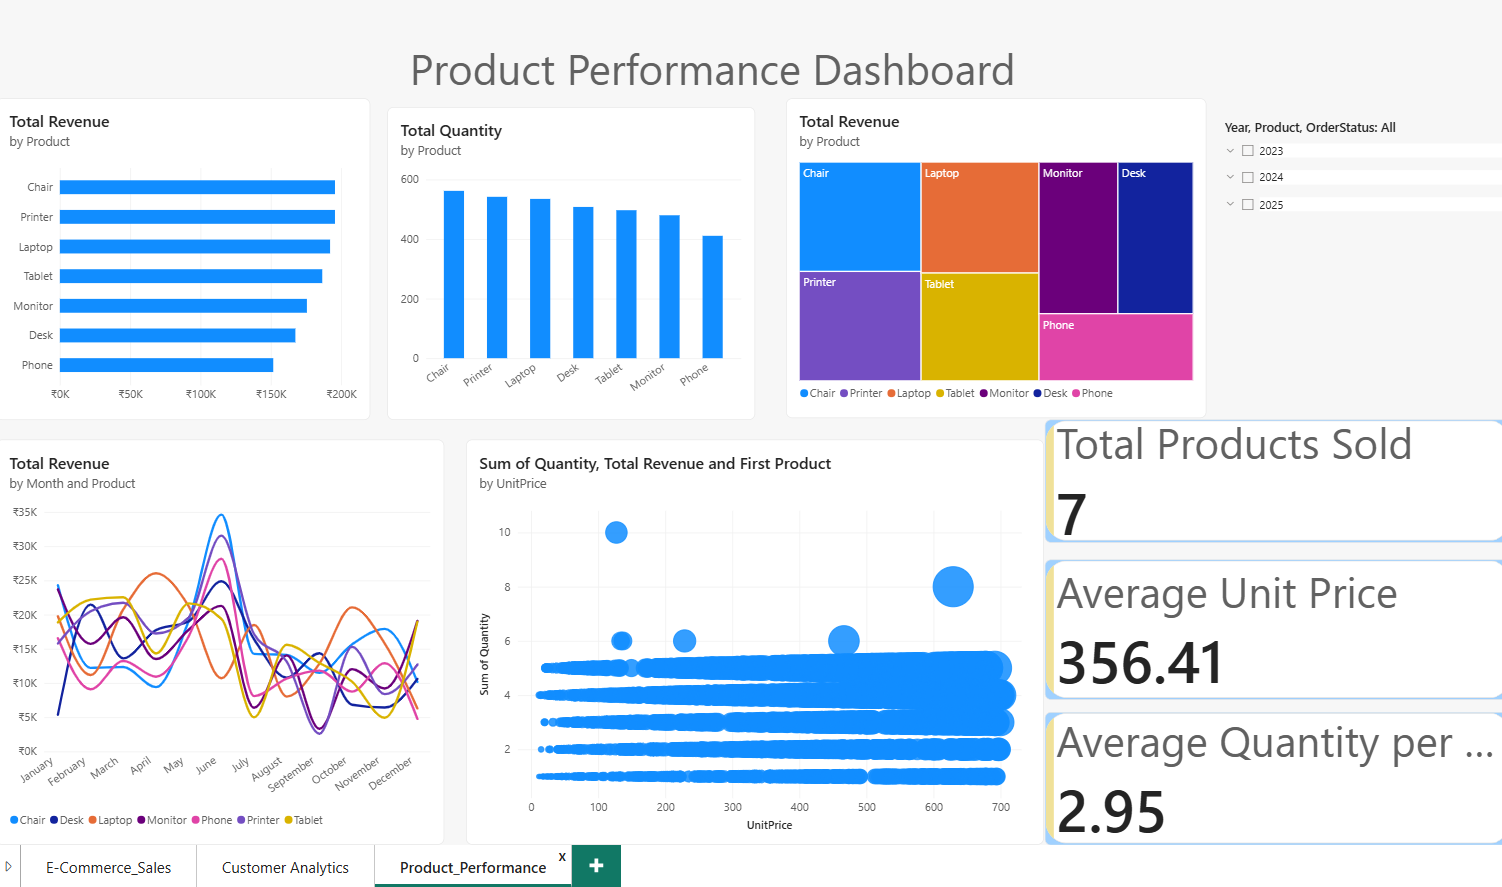

The page's visual inventory and layout, read from the dashboard file:
{"tool":"powerbi","page":{"name":"Product_Performance","canvas":[1920,1080],"ordinal":2},"visuals":[{"type":"clusteredBarChart","fields":{"Category":["Cleaned_dataset.Product"],"Y":["Cleaned_dataset.Total Revenue"]},"box":[0,134.2,473.9,406.9],"z":0},{"type":"textbox","box":[523.7,60.6,781.3,73.6],"z":1000},{"type":"clusteredColumnChart","fields":{"Category":["Cleaned_dataset.Product"],"Y":["Cleaned_dataset.Total Quantity"]},"box":[495.6,145,465.3,396],"z":2000},{"type":"treemap","fields":{"Group":["Cleaned_dataset.Product"],"Values":["Cleaned_dataset.Total Revenue"]},"box":[999.8,134.2,532.4,404.7],"z":2001},{"type":"scatterChart","fields":{"Size":["Cleaned_dataset.Total Revenue"],"X":["Cleaned_dataset.UnitPrice"],"Y":["Sum(Cleaned_dataset.Quantity)"]},"box":[595.1,567,731.5,512.9],"z":2002},{"type":"lineChart","fields":{"Category":["Cleaned_dataset.Date.Variation.Date Hierarchy.Month"],"Series":["Cleaned_dataset.Product"],"Y":["Cleaned_dataset.Total Revenue"]},"box":[0,567,567,512.9],"z":2003},{"type":"slicer","fields":{"Values":["Cleaned_dataset.Date.Variation.Date Hierarchy.Year","Cleaned_dataset.Product","Cleaned_dataset.OrderStatus"]},"box":[1547.4,160.1,372.2,259.7],"z":2004},{"type":"cardVisual","fields":{"Data":["Cleaned_dataset.Total Products Sold"]},"box":[1326.6,541,593,155.8],"z":2005},{"type":"cardVisual","fields":{"Data":["Cleaned_dataset.Average Unit Price"]},"box":[1326.6,718.5,593,177.5],"z":2006},{"type":"cardVisual","fields":{"Data":["Cleaned_dataset.Average Quantity per Order"]},"box":[1326.6,911.1,593,168.8],"z":2007}]}

Visuals, with their boxes on the page's 1920x1080 design canvas (x1, y1, x2, y2). These are canvas units, not pixel positions in the 1502x887 screenshot, which may show the page scaled, cropped or inside an application window:
clusteredBarChart - Cleaned_dataset.Product x Cleaned_dataset.Total Revenue: region(0, 134, 474, 541)
textbox: region(524, 61, 1305, 134)
clusteredColumnChart - Cleaned_dataset.Product x Cleaned_dataset.Total Quantity: region(496, 145, 961, 541)
treemap - Cleaned_dataset.Product x Cleaned_dataset.Total Revenue: region(1000, 134, 1532, 539)
scatterChart - Cleaned_dataset.Total Revenue x Cleaned_dataset.UnitPrice: region(595, 567, 1327, 1080)
lineChart - Cleaned_dataset.Date.Variation.Date Hierarchy.Month x Cleaned_dataset.Product: region(0, 567, 567, 1080)
slicer - Cleaned_dataset.Date.Variation.Date Hierarchy.Year x Cleaned_dataset.Product: region(1547, 160, 1920, 420)
cardVisual - Cleaned_dataset.Total Products Sold: region(1327, 541, 1920, 697)
cardVisual - Cleaned_dataset.Average Unit Price: region(1327, 718, 1920, 896)
cardVisual - Cleaned_dataset.Average Quantity per Order: region(1327, 911, 1920, 1080)
